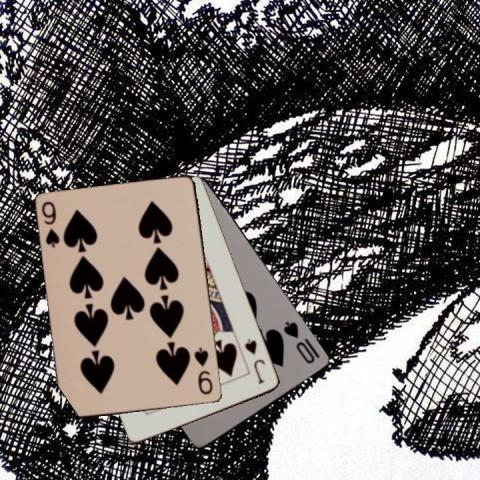10s: (280, 319, 316, 365)
9s: (191, 344, 215, 397), (39, 199, 61, 249)
Js: (242, 335, 267, 386)
